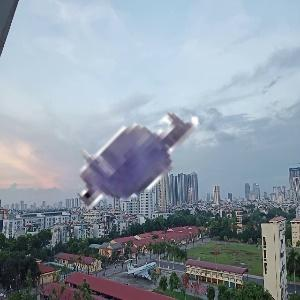drone: (24, 57, 236, 269)
